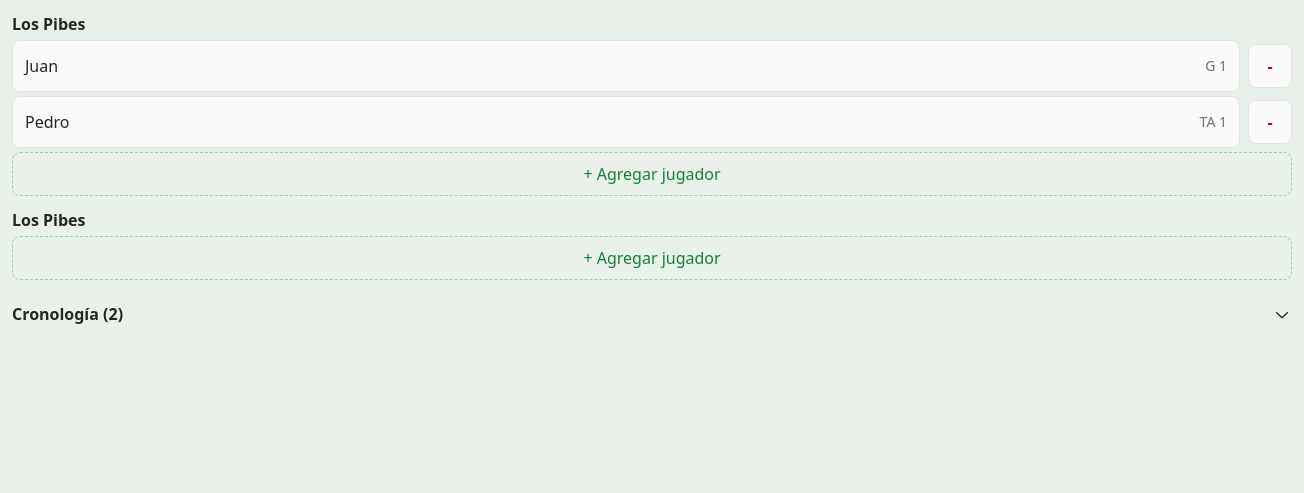
Test: CargaVivo flujo crítico 2 taps › cronología muestra pelota en gol y tarjeta con etiqueta accesible
This screenshot has width=1304, height=493.
Click the button "Cronología (2)": (68, 314) [12,292,1292,336]
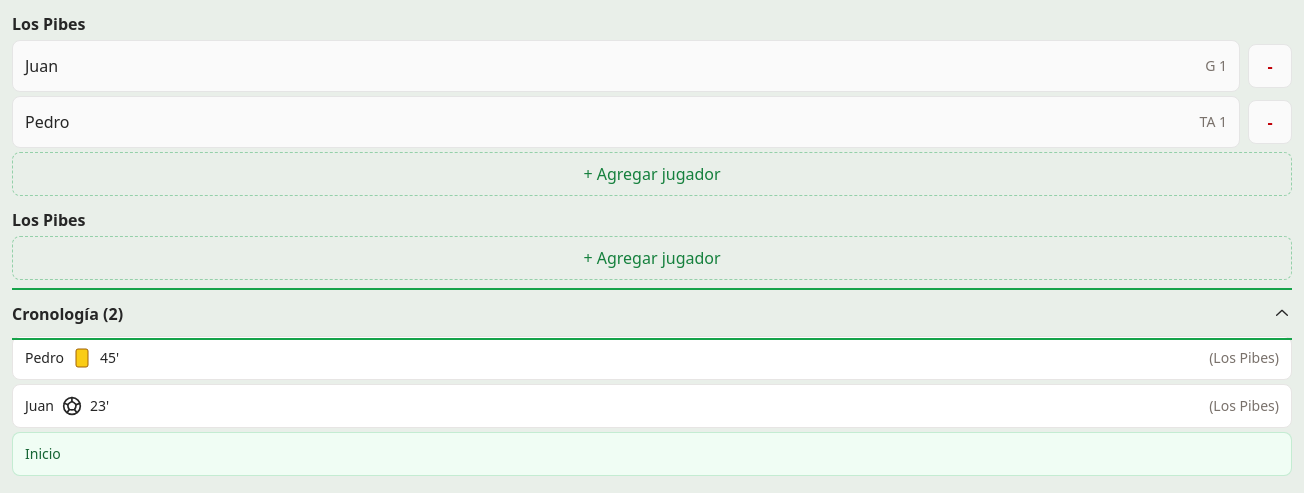
Result: the list item with aria-label "Gol de Juan" is shown at [12,384,1292,428]
Result: the list item with aria-label "Tarjeta amarilla de Pedro" is shown at [12,336,1292,380]
Result: the icon next to "23'" is shown at [62,396,82,416]
